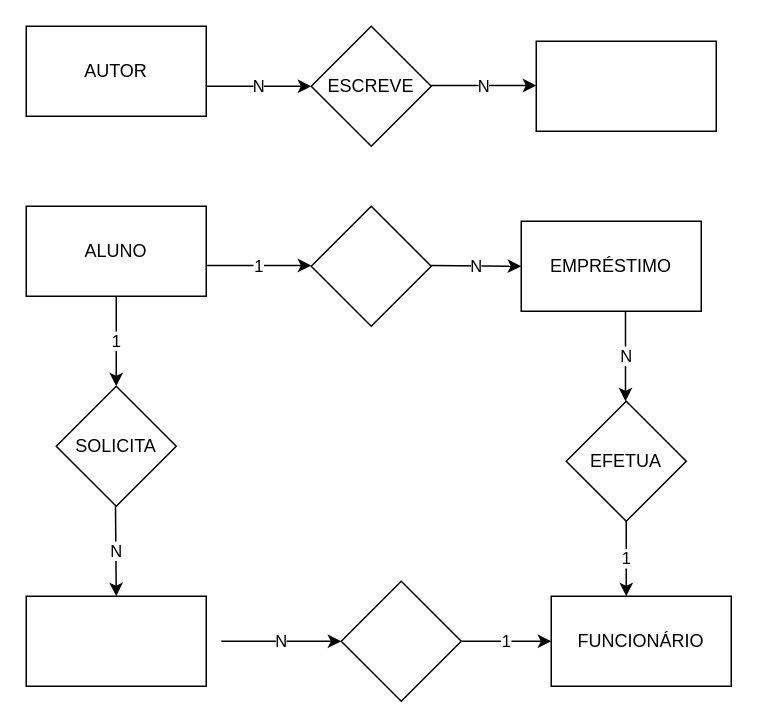
Image size: 758x728. Some labels were removed from this diagram. Here are the shapes that lost their labels. From the top down, the box of each, then its label:
(535, 40, 716, 131): LIVRO
(310, 205, 431, 326): REALIZA
(25, 595, 206, 686): DEVOLUÇÃO
(340, 580, 461, 701): CONCLUI
